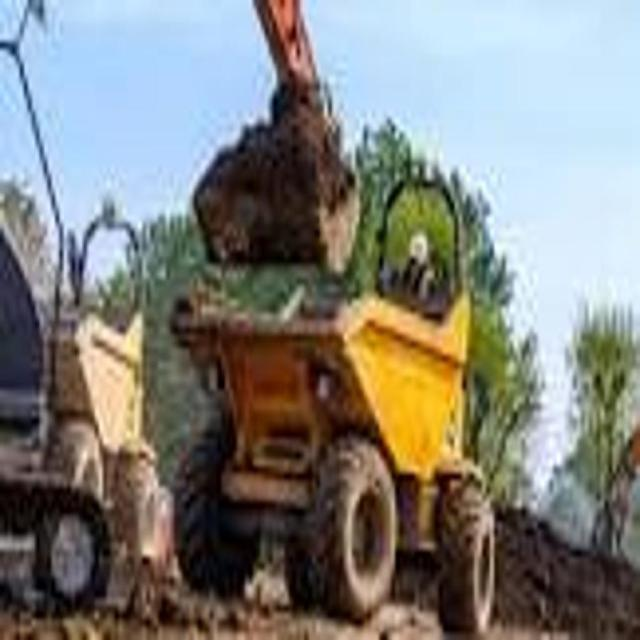dump_truck: (178, 256, 506, 640)
